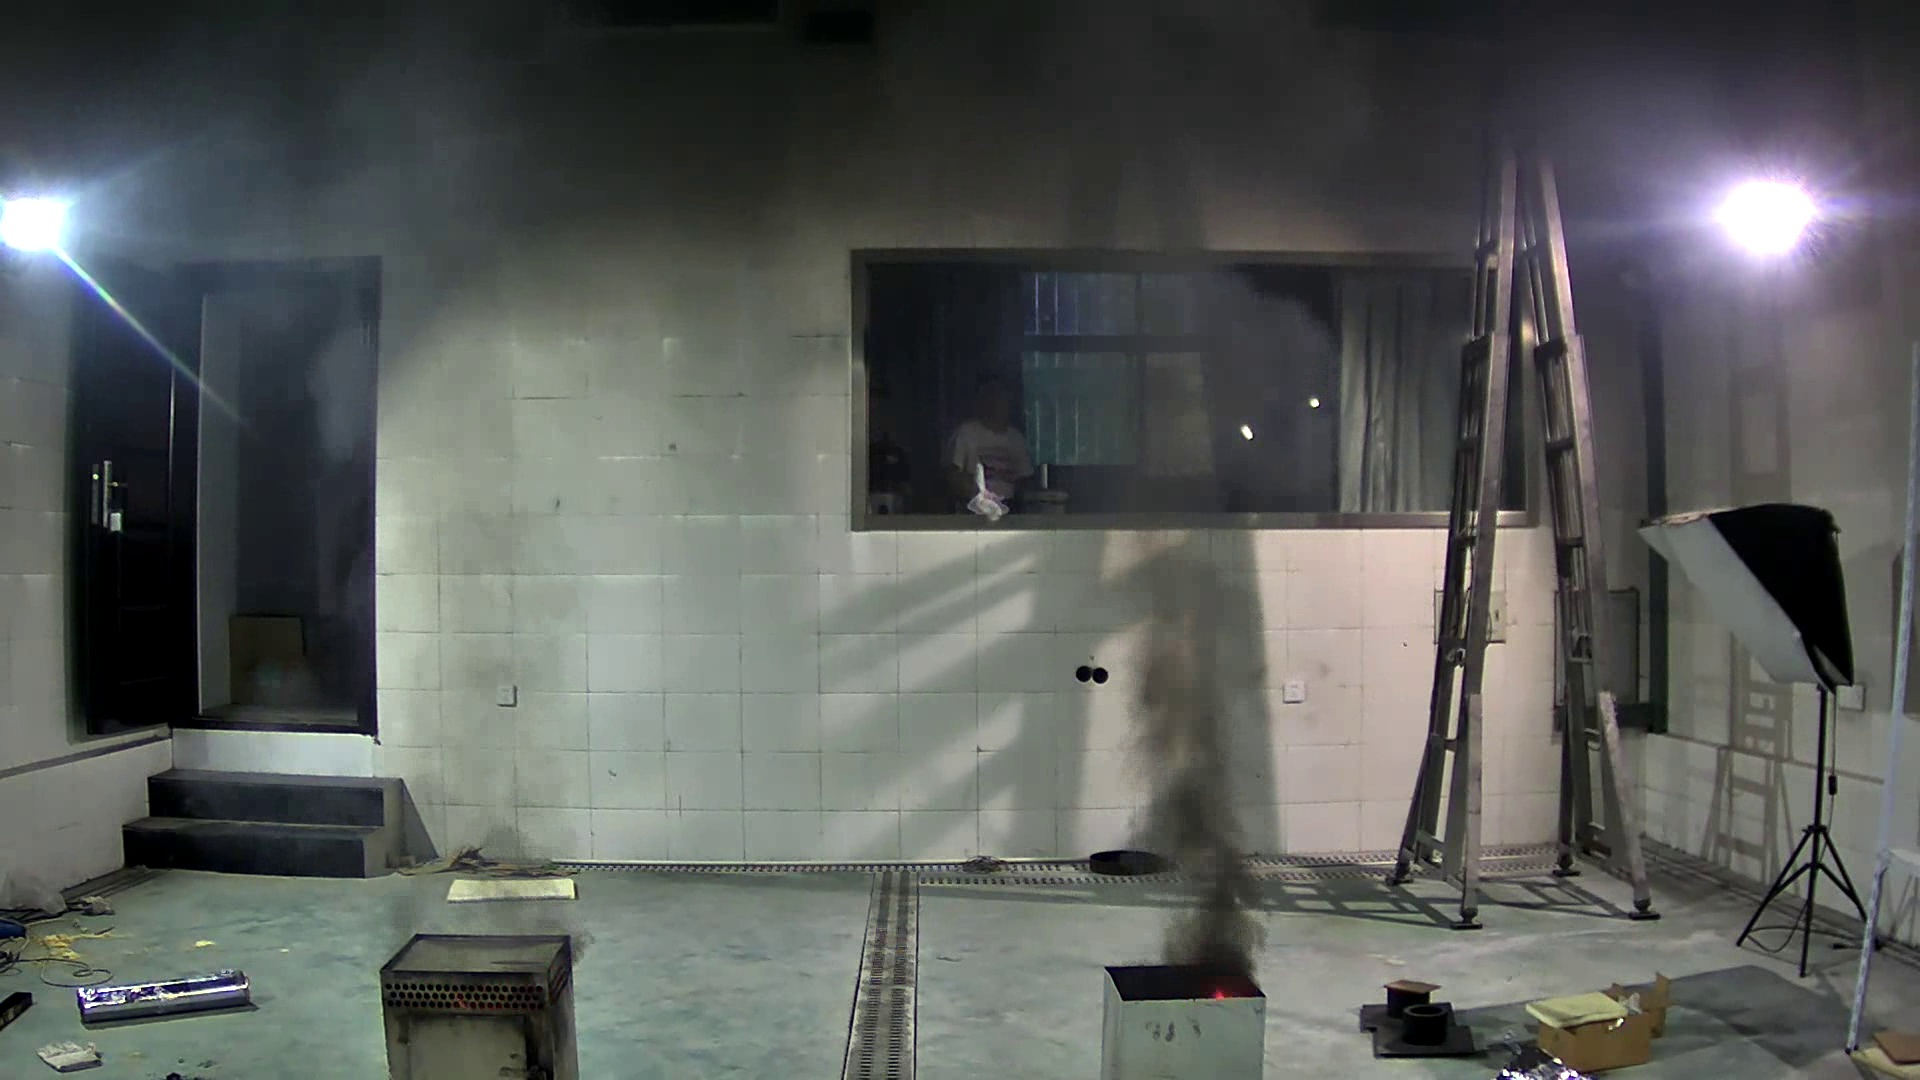smoke: (1063, 266, 1352, 961)
